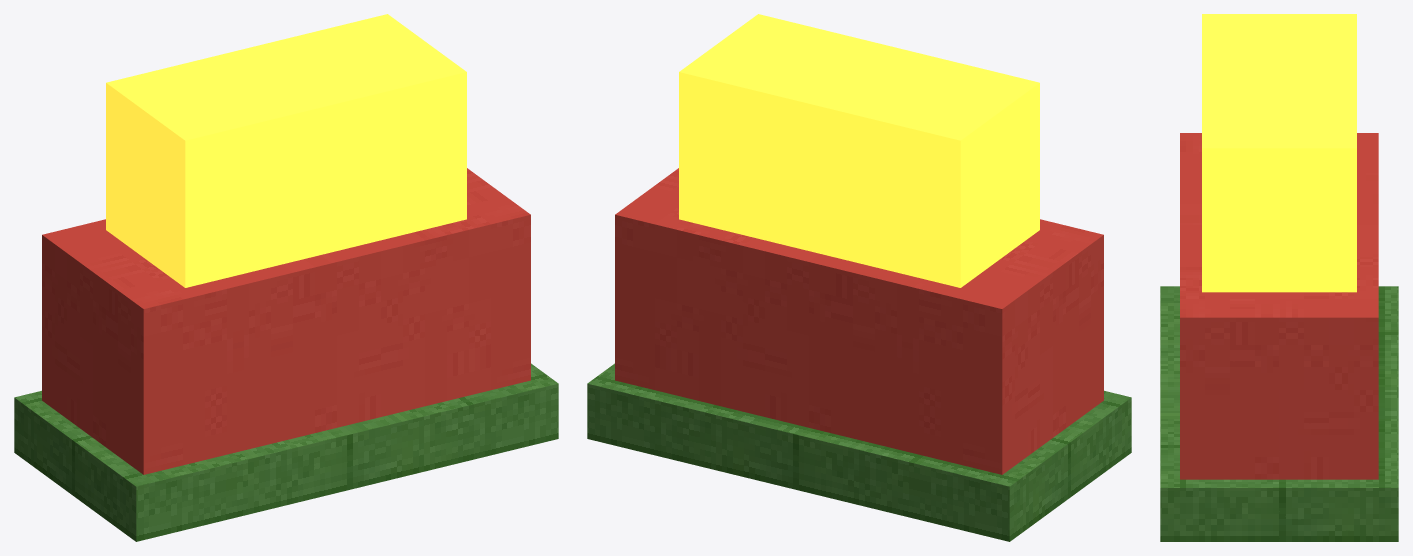
3 views of the same model, side by side, from view 1: azimuth 30°, elevation 25°; view 2: azimuth 150°, elevation 25°; view 3: azimuth 270°, elevation 25° (orthographic). The views are drawn at different scales.
Parts seen in each view (by area): view 1: Decor_promo_pallet; view 2: Decor_promo_pallet; view 3: Decor_promo_pallet.
Part boxes in pixels (x1=…): Decor_promo_pallet: x1=14, y1=14, x2=558, y2=541; Decor_promo_pallet: x1=587, y1=14, x2=1131, y2=541; Decor_promo_pallet: x1=1160, y1=14, x2=1398, y2=541.
Size of the model in its own units: 1.2 by 1 by 0.6.
3 materials, 2 textured.
